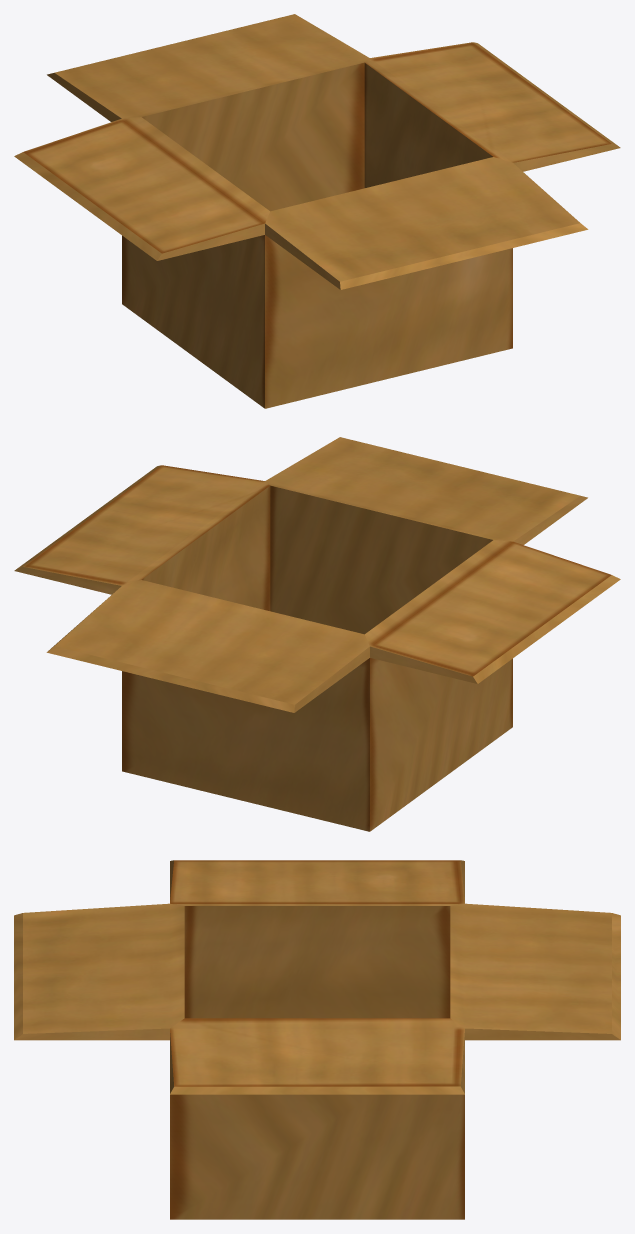
Rendered from open_carton.fbx.
The picture shows the model from 3 angles, top to bottom: view 1: azimuth 30°, elevation 25°; view 2: azimuth 150°, elevation 25°; view 3: azimuth 270°, elevation 25°; orthographic projection. The views are drawn at different scales.
Visible parts, largest first — view 1: Carton; view 2: Carton; view 3: Carton.
Boxes of the visible parts, x1,y1,x2,y2 form: Carton: [14, 14, 620, 408]; Carton: [14, 437, 620, 831]; Carton: [14, 860, 620, 1219].
Size of the model in its own units: 40.66 by 15.86 by 44.69.
